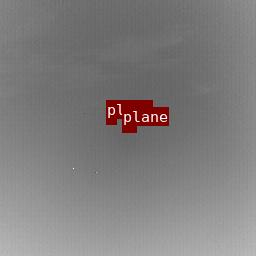plane: (122, 126, 136, 132), (106, 119, 116, 124)
